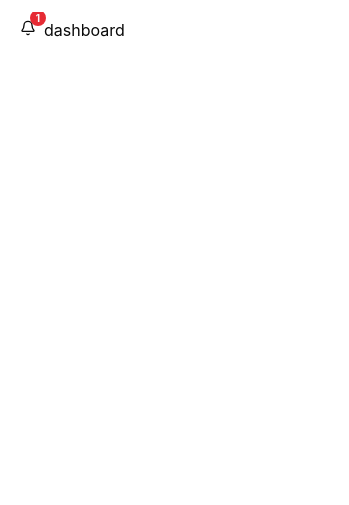
Test case: notification center › marks visible notifications as read on open, clears them, and opens Audit
Step 1. Click the button named "Open notifications" → (28, 28), box [12,12,44,44]
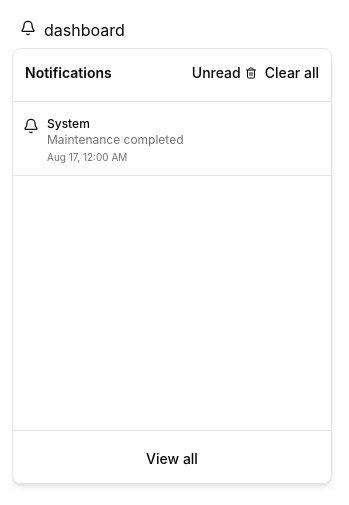
Step 2. Click the button "Clear all" → (282, 73), box [245,61,319,85]
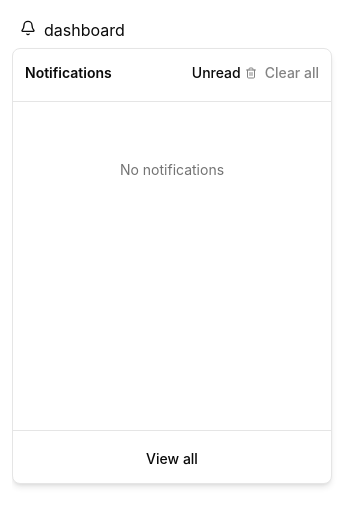
Step 3. Click the button "View all" → (172, 459), box [21,443,323,475]
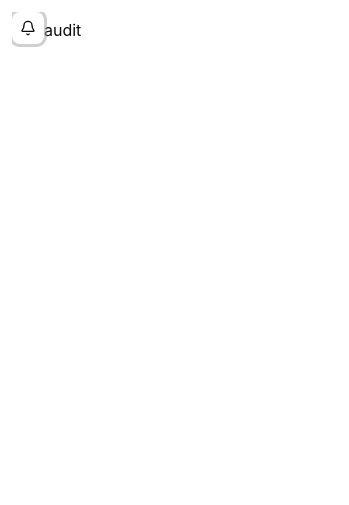
Result: the text "audit" is shown at [44,20,81,40]
